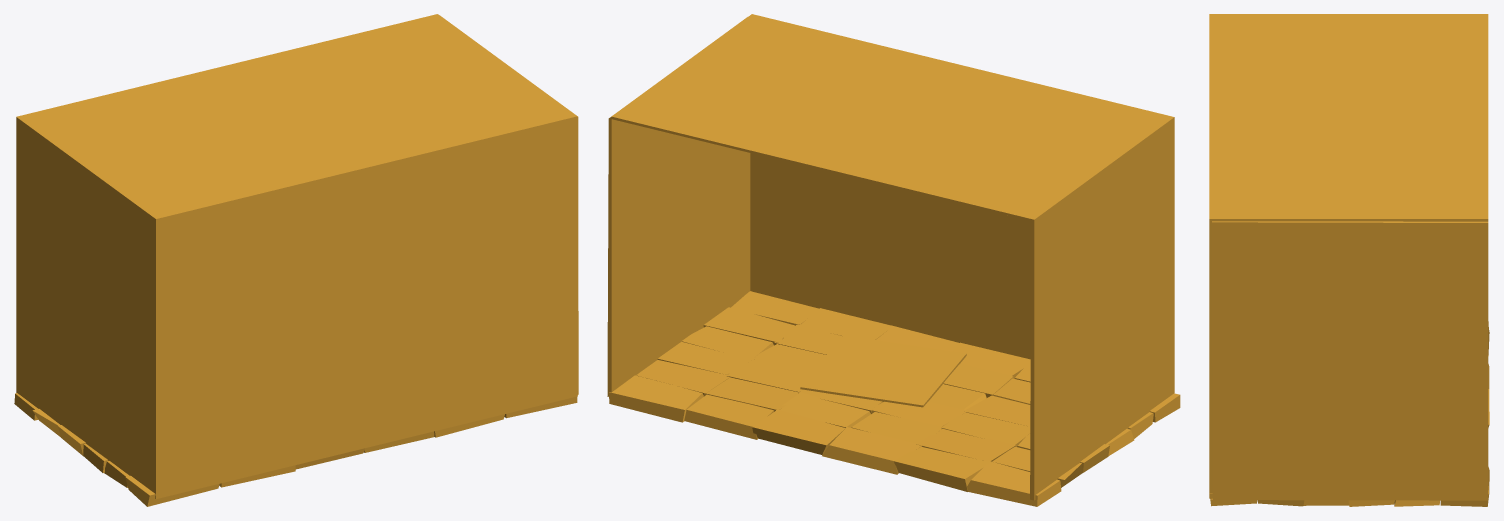
File: SUELO.fbx
The picture shows the model from 3 angles, left to right: view 1: azimuth 30°, elevation 25°; view 2: azimuth 150°, elevation 25°; view 3: azimuth 270°, elevation 25°; orthographic projection.
Visible parts, largest first — view 1: Plane.001; view 2: Plane.001, Plane; view 3: Plane.001.
Boxes of the visible parts, <box> form: Plane.001: <box>14,14,578,506</box>; Plane.001: <box>607,14,1180,506</box>; Plane: <box>800,335,966,407</box>; Plane.001: <box>1209,14,1489,506</box>.
Bounding box in the file's own units: 30.67 × 19.46 × 17.25.
